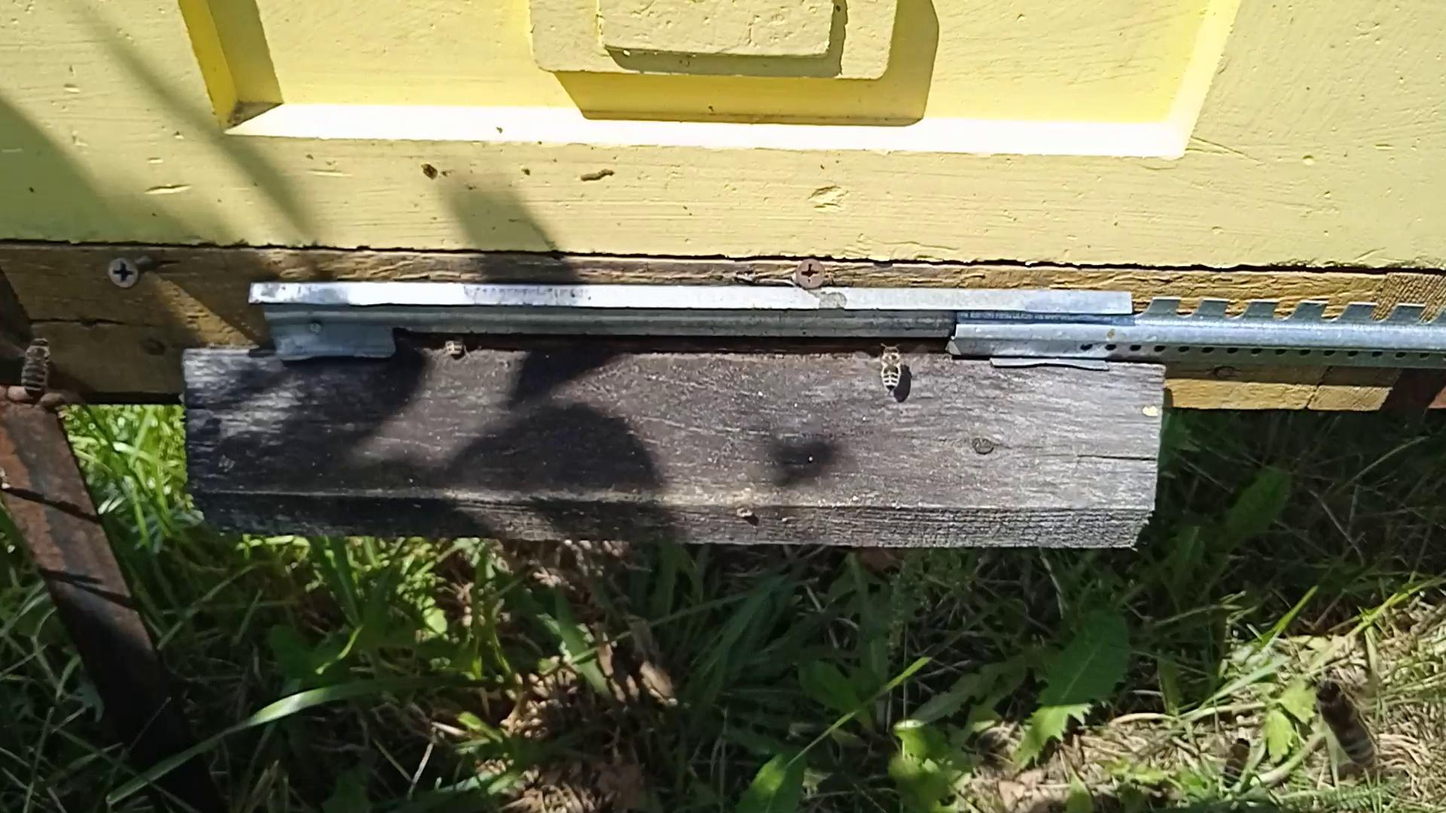worker-bee: (1313, 680, 1377, 770), (255, 246, 321, 281), (19, 335, 55, 398), (1220, 736, 1253, 793), (878, 343, 906, 393), (439, 333, 471, 359)
